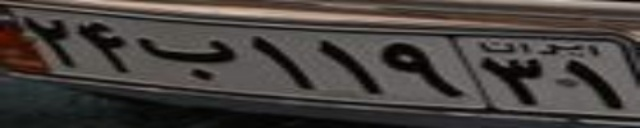1: (318, 38, 383, 94), (249, 34, 314, 89), (562, 60, 621, 109)
2: (22, 17, 74, 69)
3: (478, 55, 546, 105)
4: (78, 22, 128, 72)
9: (380, 38, 461, 98)
be: (134, 35, 238, 82)
